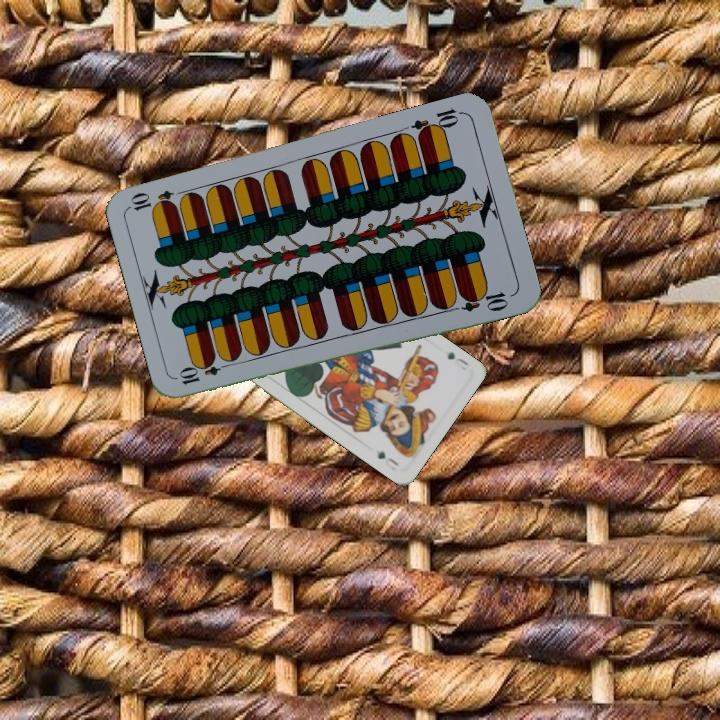E10: (408, 104, 466, 141), (175, 357, 234, 388)
GU: (443, 348, 471, 373)
